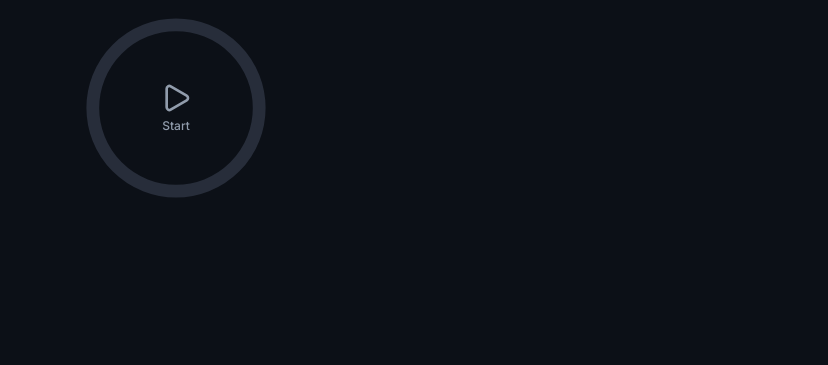
B332 — guided timer never advances the counter unattended › holds a timed work phase that expired while the app was away
Click the button "Start": (176, 108) left=160, top=82, right=192, bottom=134
Wait 7000 ms
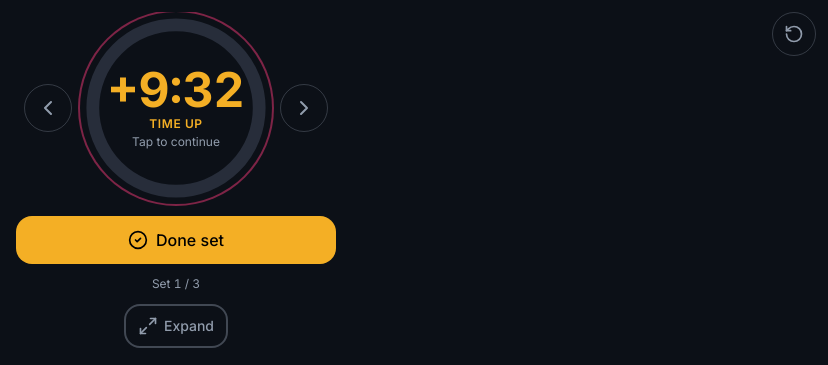
Check: the text "TIME UP" is shown, box left=149, top=116, right=203, bottom=132
